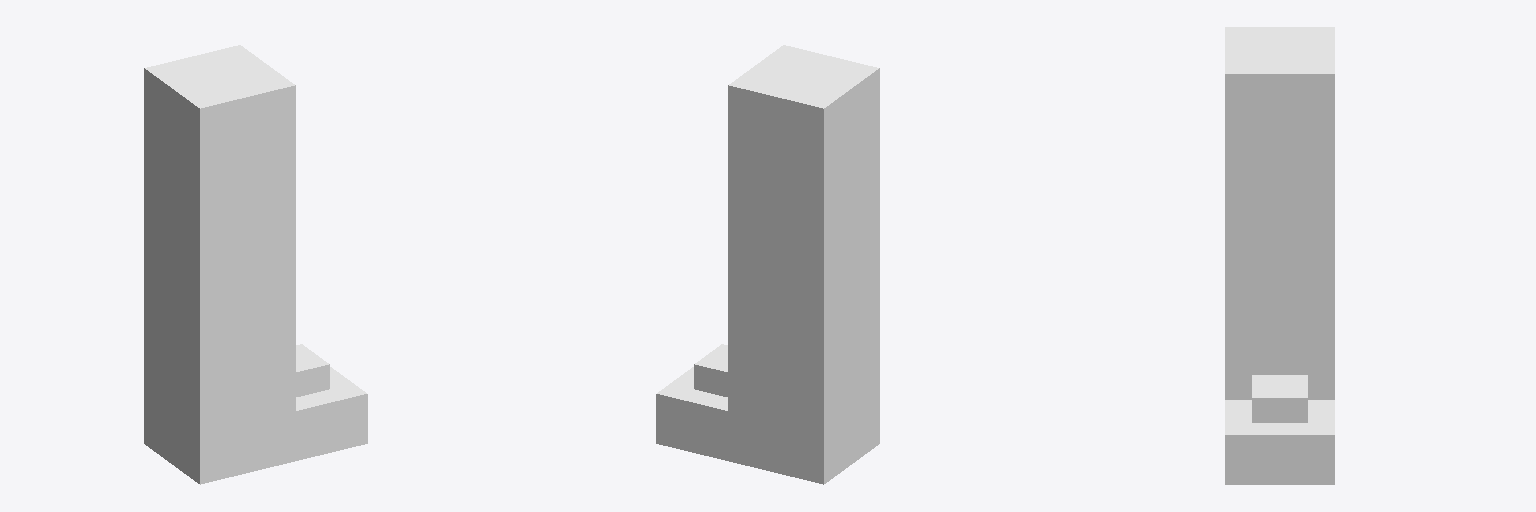
Rendered from guy1leftleg.obj.
3 views of the same model, side by side, from view 1: azimuth 30°, elevation 25°; view 2: azimuth 150°, elevation 25°; view 3: azimuth 270°, elevation 25° (orthographic).
Parts seen in each view (by area): view 1: guy1leftleg; view 2: guy1leftleg; view 3: guy1leftleg.
Boxes of the visible parts, x1,y1,x2,y2 form: guy1leftleg: [144, 45, 367, 484]; guy1leftleg: [656, 45, 879, 484]; guy1leftleg: [1225, 27, 1334, 484].
Size of the model in its own units: 7 by 15 by 4.